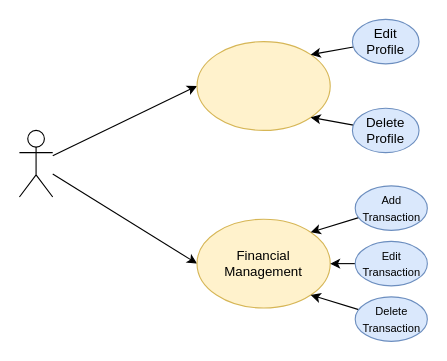
Some shapes in this 447 by 361 pixel diagram are drawn without their labels. Here are the shapes that lost their labels. From the top down, the centre of each, then its label:
At point (263, 85): "User Management".
At point (35, 163): "User".
